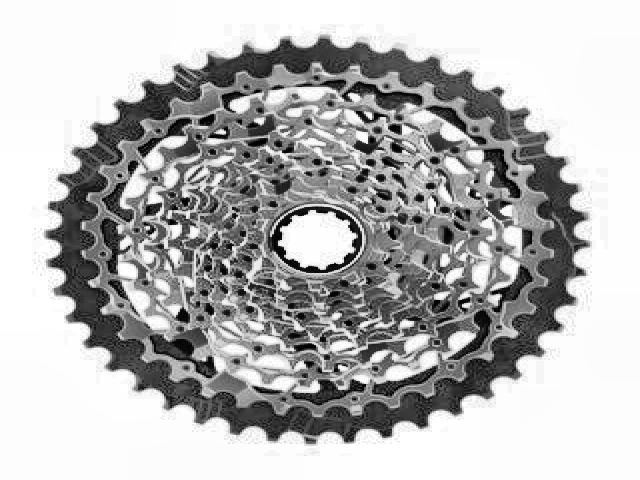cassette: (43, 34, 591, 446)
